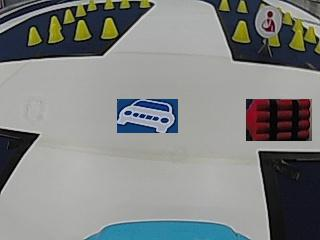cone: (100, 18, 118, 39), (48, 17, 63, 42), (290, 26, 305, 51), (233, 21, 250, 42), (75, 20, 92, 40), (27, 26, 42, 45), (304, 25, 316, 41), (75, 3, 86, 16), (63, 9, 74, 22), (237, 1, 248, 13), (219, 0, 229, 11), (104, 0, 114, 10), (119, 0, 130, 9), (88, 0, 97, 11), (138, 0, 150, 8)
patient: (255, 4, 281, 36)
